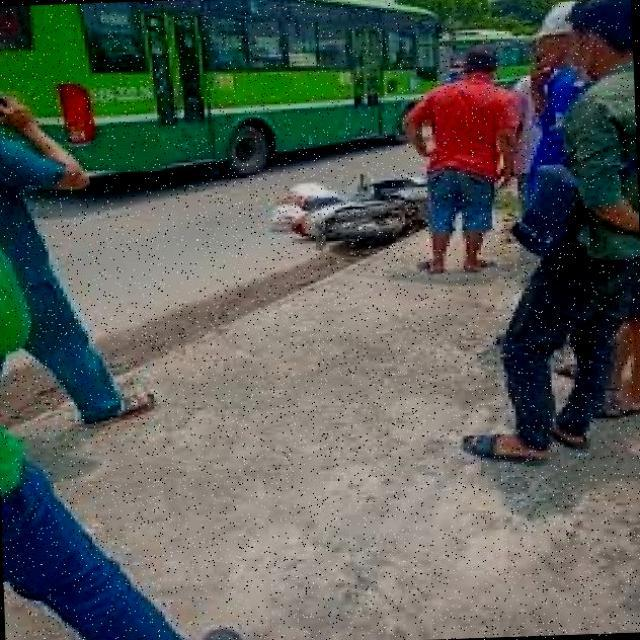accident: (246, 145, 462, 257)
